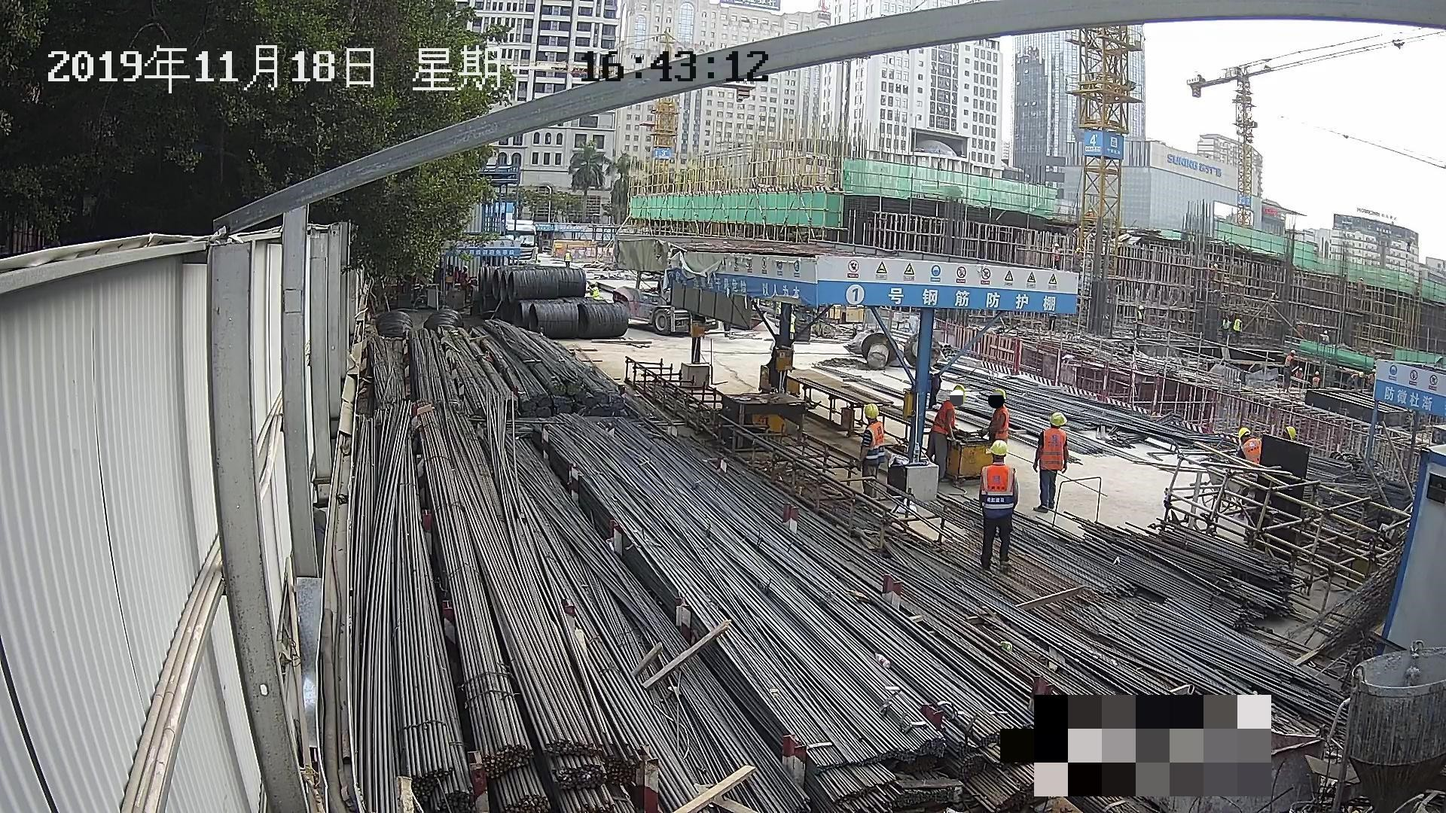hat: (990, 440, 1008, 464), (1048, 411, 1068, 430), (950, 385, 966, 405), (865, 402, 880, 423), (992, 387, 1006, 407), (1237, 427, 1251, 444)
person: (979, 441, 1019, 568), (924, 385, 967, 483), (1031, 411, 1069, 513), (857, 403, 886, 498), (978, 389, 1008, 443), (1237, 426, 1261, 465)
